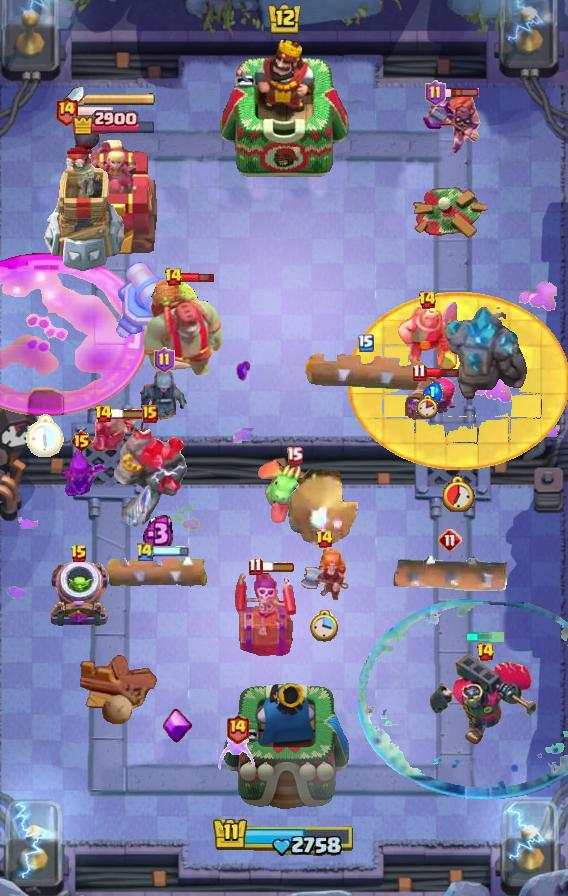bandit: (394, 299, 460, 369)
bar: (70, 138, 158, 256)
barbarian: (218, 735, 256, 773)
battle-ram: (135, 368, 193, 436), (91, 411, 137, 457)
cannoneer-tower: (443, 307, 531, 405), (111, 425, 189, 527)
clock: (212, 816, 356, 858)
electro-spirit: (141, 513, 175, 554), (423, 381, 443, 403)
electro-wizard: (254, 457, 334, 525)
elixir: (26, 414, 66, 458), (443, 475, 475, 512), (310, 610, 339, 643), (416, 393, 438, 419)
emote: (424, 366, 460, 379), (181, 272, 216, 285), (443, 87, 480, 99), (77, 105, 114, 117), (110, 408, 146, 420), (260, 561, 296, 573), (153, 546, 189, 557)
evolution-symbol: (56, 446, 106, 502)
goblin-cage: (47, 559, 111, 629)
hog-rider: (298, 549, 350, 601)
ice-spirit: (465, 632, 505, 642)
inferno-tower: (428, 651, 542, 747)
king-tower: (219, 678, 349, 826), (218, 37, 350, 181)
king-tower-bar: (84, 93, 156, 107)
knight-evolution: (0, 252, 150, 416)
lava-hound: (140, 273, 226, 385)
mega-minion: (405, 369, 461, 431)
minion: (302, 348, 430, 394), (389, 553, 511, 597), (106, 555, 210, 589)
pad_0: (358, 597, 568, 799)
phoenix-egg: (348, 292, 568, 471)
royal-recruit: (110, 256, 188, 346)
selected: (71, 109, 157, 136)
skeleton-king-bar: (234, 570, 296, 656)
skeleton-king-skill: (161, 707, 194, 745)
tesla-evolution: (420, 90, 482, 158)
text: (53, 95, 78, 126), (225, 713, 250, 743), (438, 528, 462, 552), (70, 429, 93, 453), (426, 80, 447, 106), (153, 347, 174, 373), (135, 541, 155, 562), (164, 267, 184, 287), (418, 290, 438, 310), (95, 404, 114, 424), (315, 529, 334, 549), (477, 642, 496, 662), (70, 544, 88, 564), (286, 447, 303, 466), (358, 334, 374, 352), (142, 405, 158, 423), (413, 363, 428, 382), (248, 556, 263, 575)
x-bow: (287, 466, 373, 548)
zappy: (40, 115, 127, 273)
